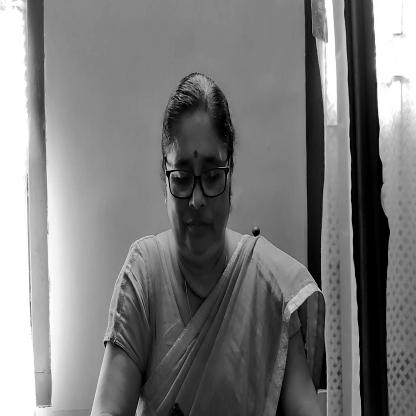Normal: (161, 79, 235, 268)
